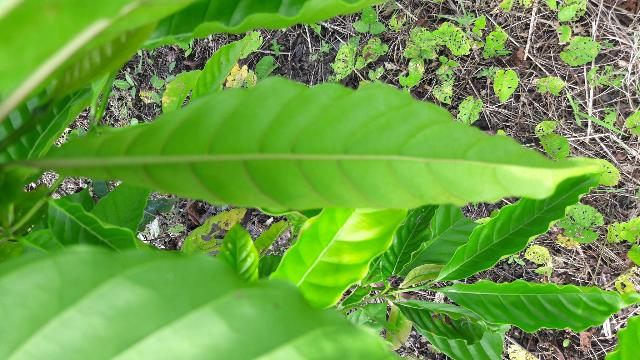healthy: (48, 78, 601, 210)
